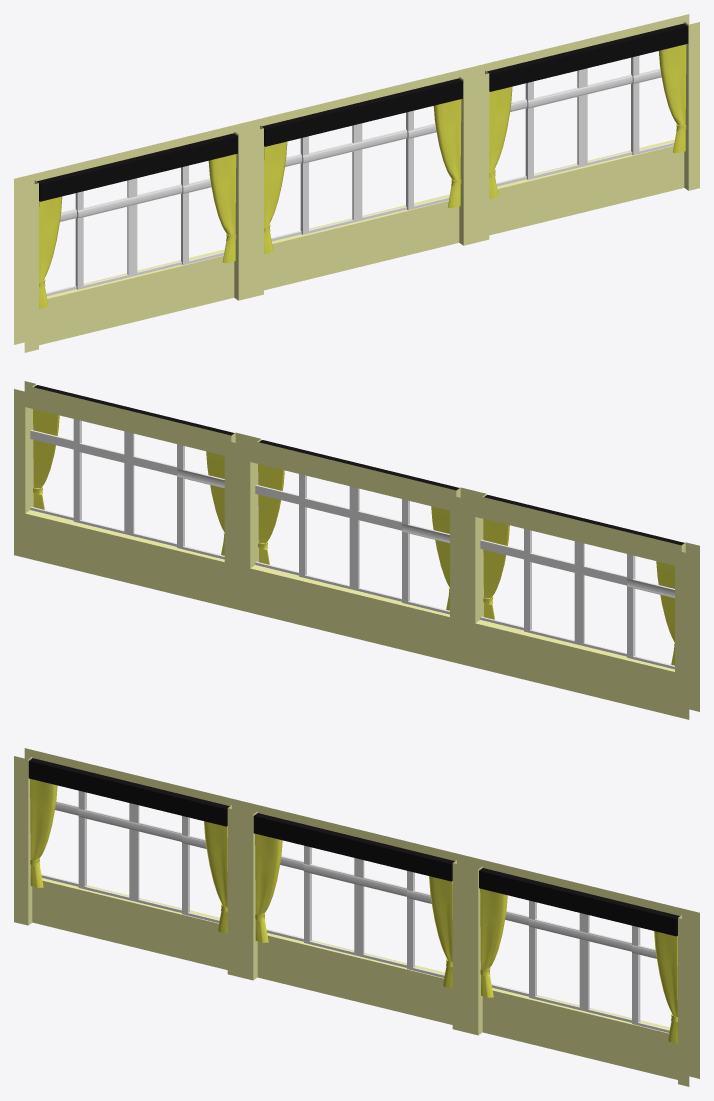
File: fullwall.obj
3 renders of one model, top to bottom at view 1: azimuth 30°, elevation 25°; view 2: azimuth 150°, elevation 25°; view 3: azimuth 330°, elevation 25°, orthographic.
Parts seen in each view (by area): view 1: wall5; view 2: wall5; view 3: wall5.
Part boxes in pixels (bbox=[...]): wall5: bbox=[14, 14, 699, 352]; wall5: bbox=[14, 381, 699, 719]; wall5: bbox=[14, 748, 699, 1086].
Bounding box in the file's own units: 8.25 × 1.94 × 0.2356.
